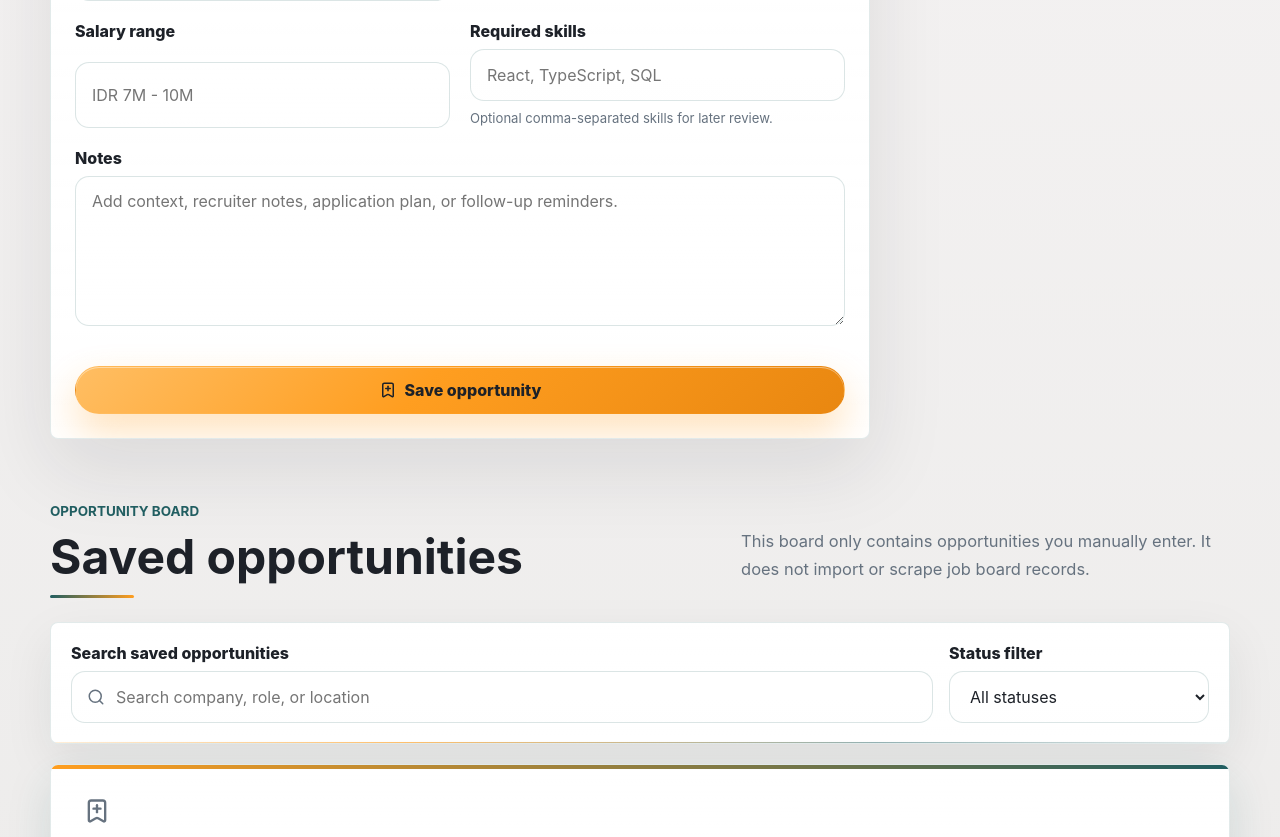
Scenario: SavedPage › validates required fields before saving
(page scrolled)
Click the button "Save opportunity" at (460, 390), box left=75, top=366, right=845, bottom=414
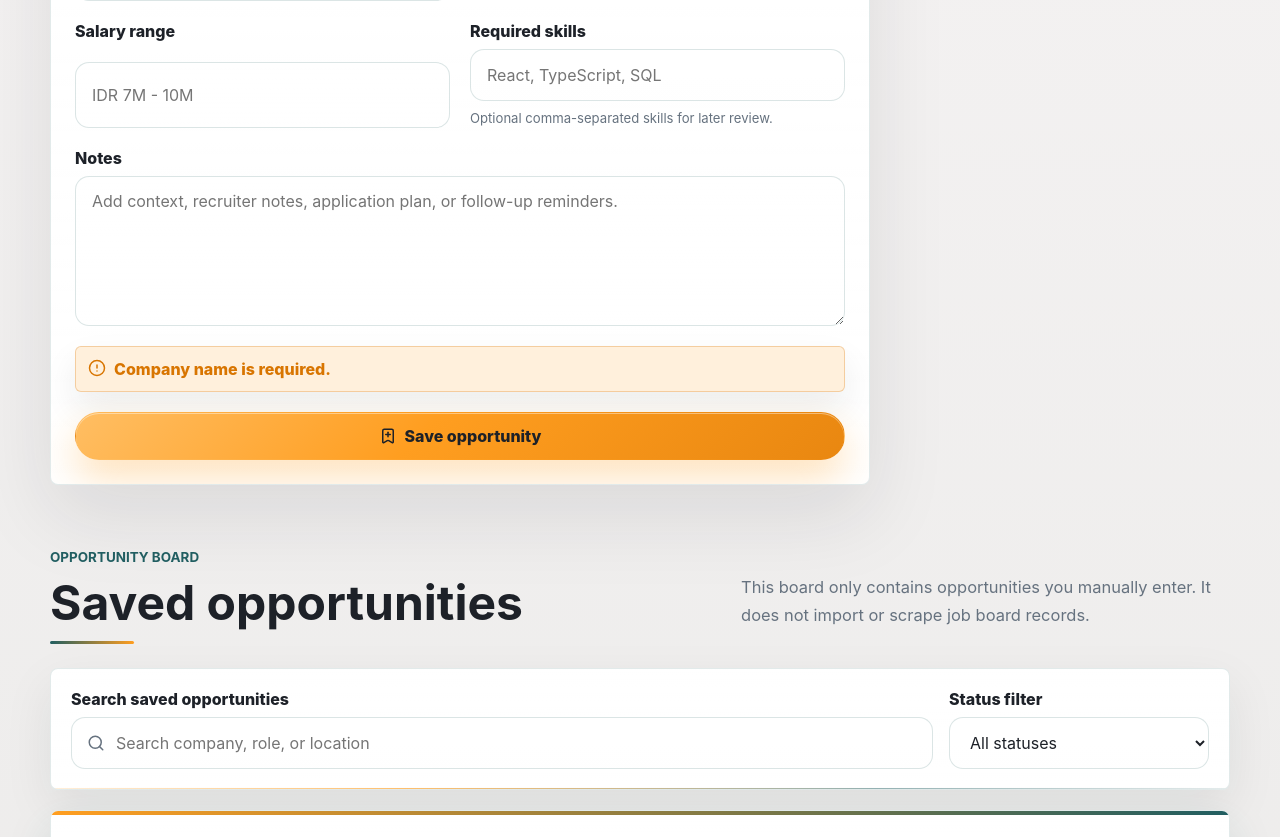
Expected: the text "Company name is required." is shown, left=114, top=359, right=331, bottom=379
